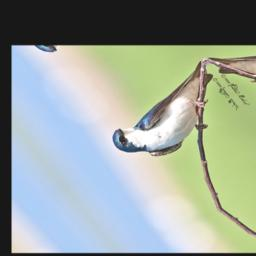Swallow: (84, 60, 251, 170)
